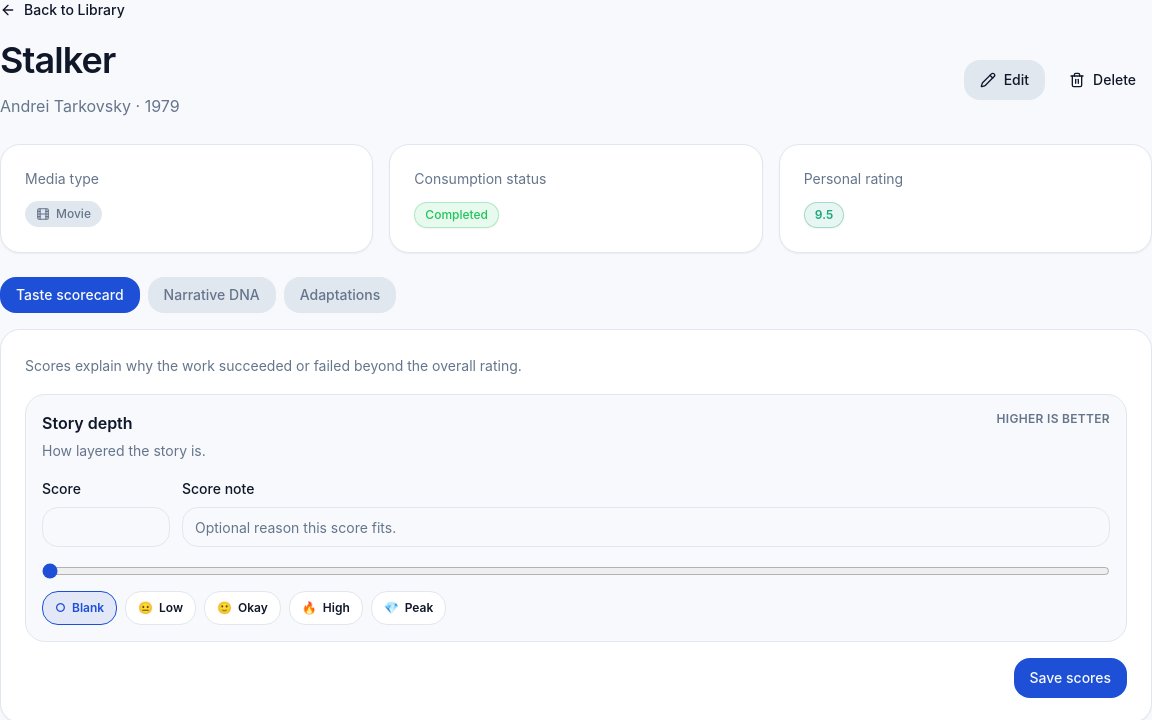
Test case: MediaDetailPage Narrative DNA › displays completed Narrative DNA scores, traits, and evidence
Click the tab "Narrative DNA" at (212, 295), box [148,277,276,313]
(page scrolled)
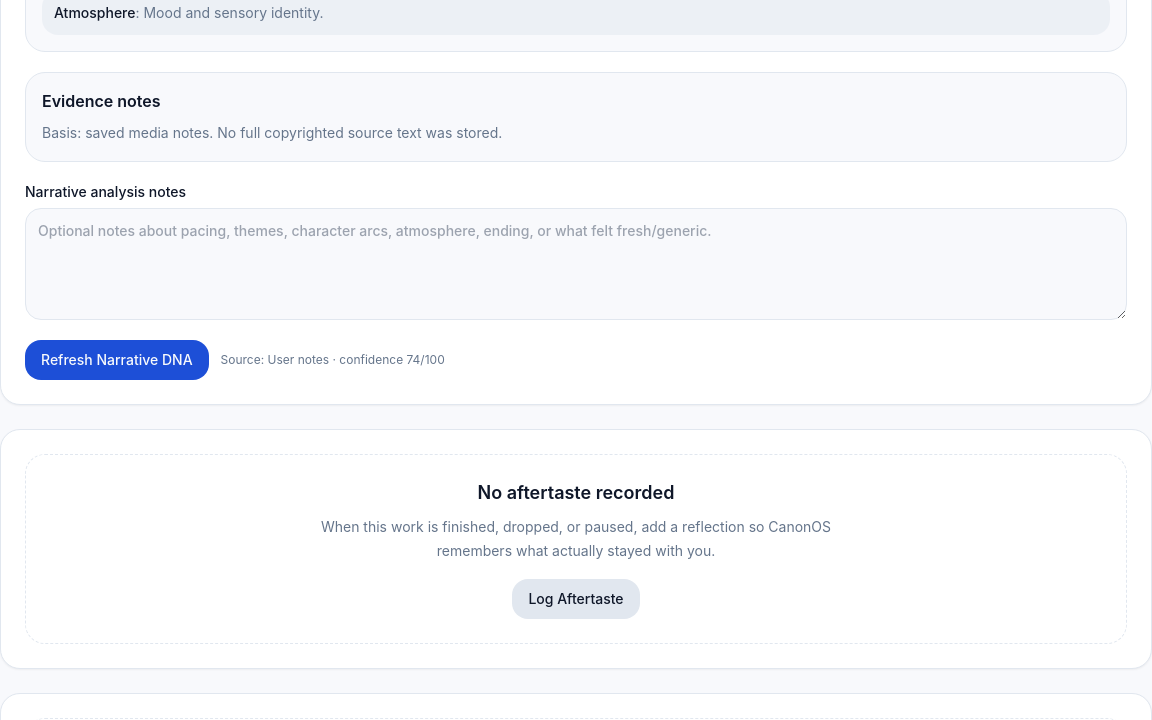
Result: the text "Basis: saved media notes" is shown at [42,124,502,141]
Result: the button "Refresh Narrative DNA" is shown at [25,340,209,380]
